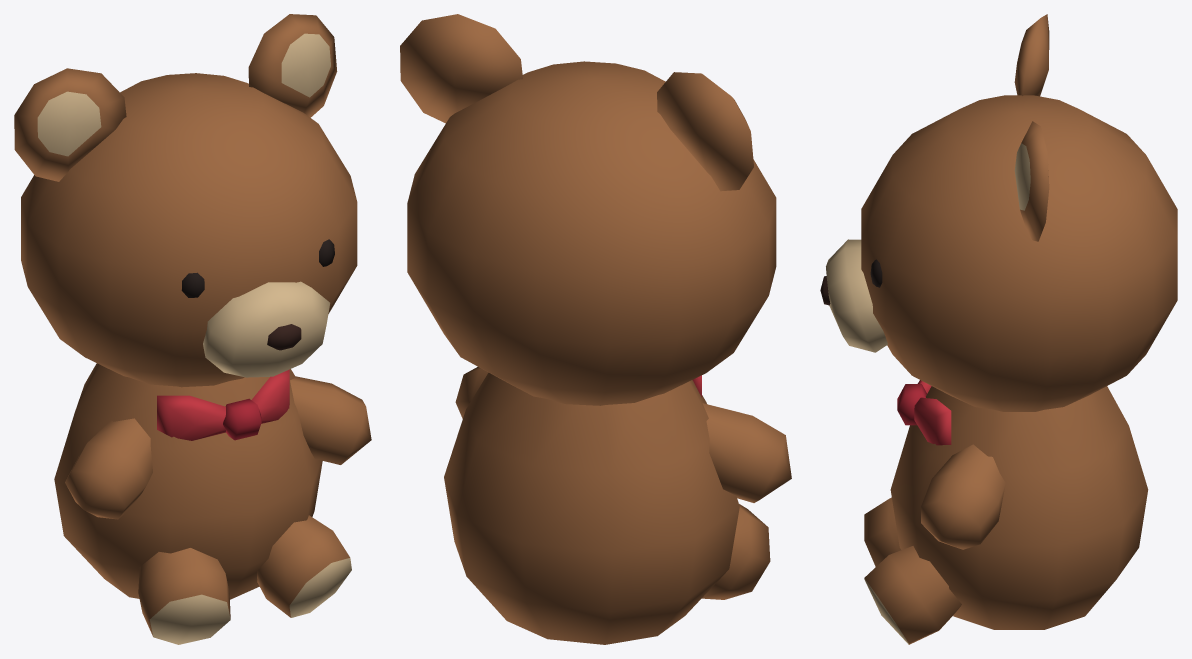
File: Cosmetic_Teddy.glb
The picture shows the model from 3 angles, left to right: view 1: azimuth 30°, elevation 25°; view 2: azimuth 150°, elevation 25°; view 3: azimuth 270°, elevation 25°; orthographic projection. The views are drawn at different scales.
Parts seen in each view (by area): view 1: Cosmetic_Teddy; view 2: Cosmetic_Teddy; view 3: Cosmetic_Teddy.
Part boxes in pixels (x1,y1,x2,y2): Cosmetic_Teddy: (14, 14, 371, 644); Cosmetic_Teddy: (400, 14, 791, 644); Cosmetic_Teddy: (820, 14, 1177, 644).
Size of the model in its own units: 0.3587 by 0.5736 by 0.3434.
